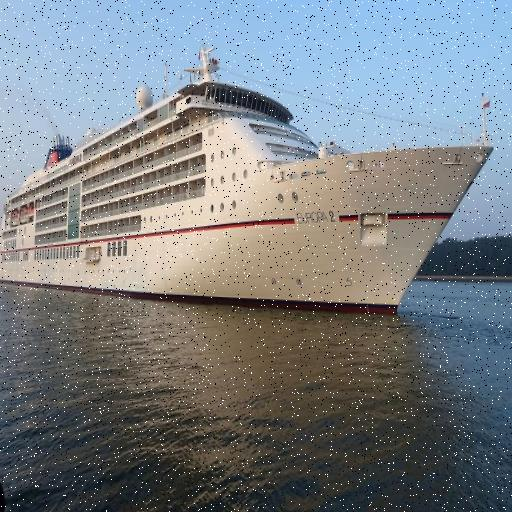cruises: (1, 41, 497, 323)
